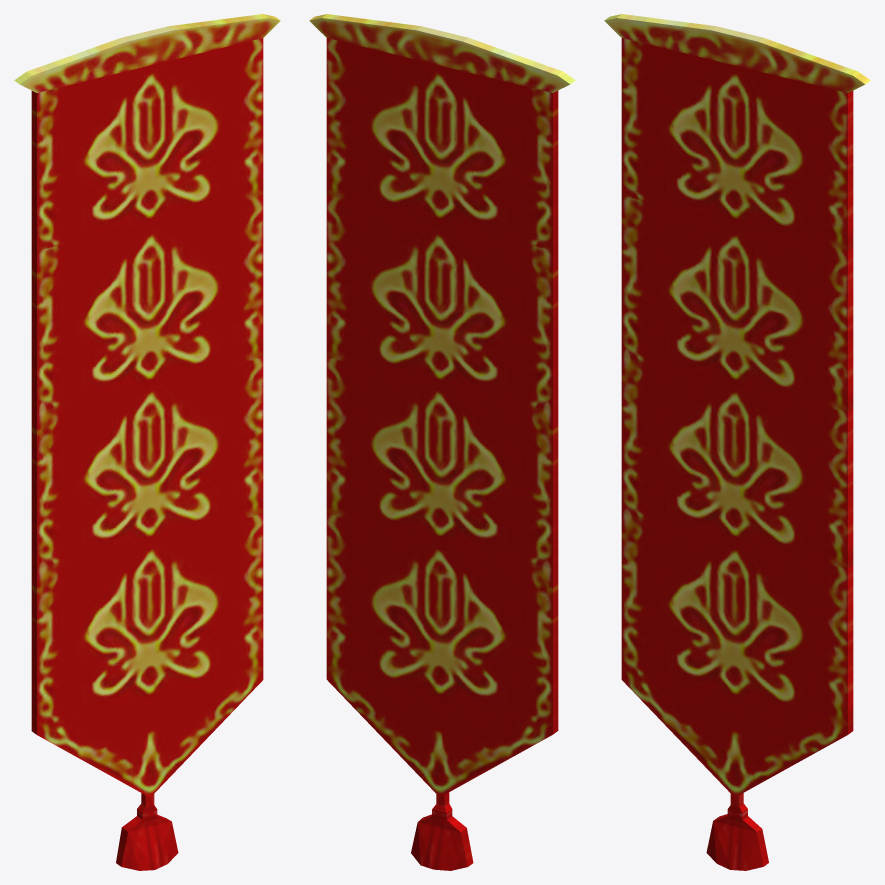
File: Tapestry_HD.fbx
3 renders of one model, left to right at view 1: azimuth 30°, elevation 25°; view 2: azimuth 150°, elevation 25°; view 3: azimuth 330°, elevation 25°, orthographic.
Visible parts, largest first — view 1: Tapestry; view 2: Tapestry; view 3: Tapestry.
Boxes of the visible parts, x1,y1,x2,y2 form: Tapestry: (14,14,280,870); Tapestry: (309,14,575,870); Tapestry: (604,14,870,870).
Bounding box in the file's own units: 0.8289 × 2.52 × 0.0884.
